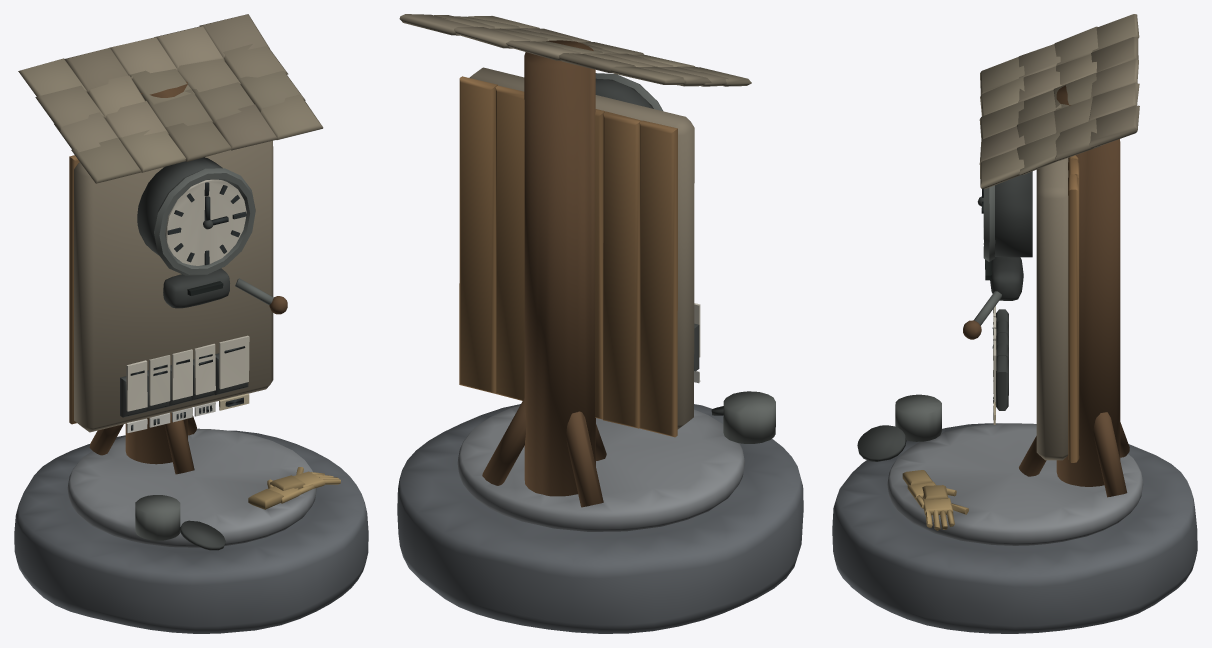
Rendered from clock_post_a_lod1.glb.
3 renders of one model, left to right at view 1: azimuth 30°, elevation 25°; view 2: azimuth 150°, elevation 25°; view 3: azimuth 270°, elevation 25°, orthographic. The views are drawn at different scales.
Visible parts, largest first — view 1: Surface.001; view 2: Surface.001; view 3: Surface.001.
Boxes of the visible parts, x1,y1,x2,y2 form: Surface.001: (14,14,368,633); Surface.001: (397,14,803,633); Surface.001: (832,14,1197,633).
Bounding box in the file's own units: 1.69 × 2.53 × 1.7.
